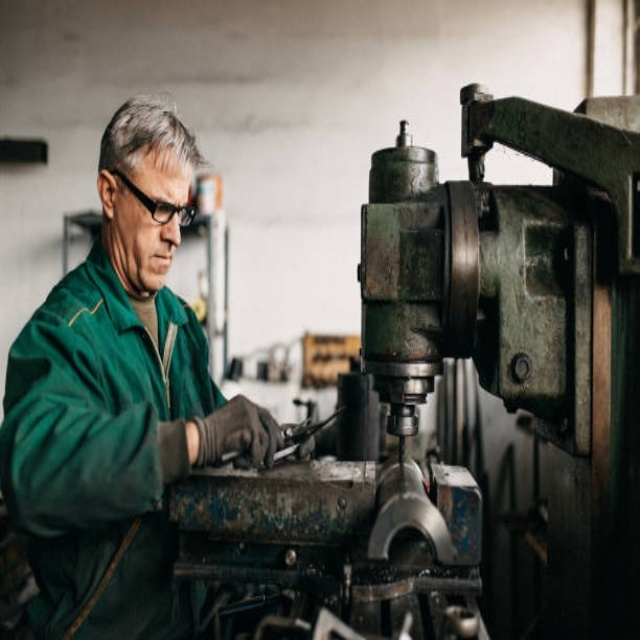Gafas: (110, 168, 197, 228)
Guantes: (189, 381, 284, 475)
Sin_mascara: (141, 243, 176, 282)
